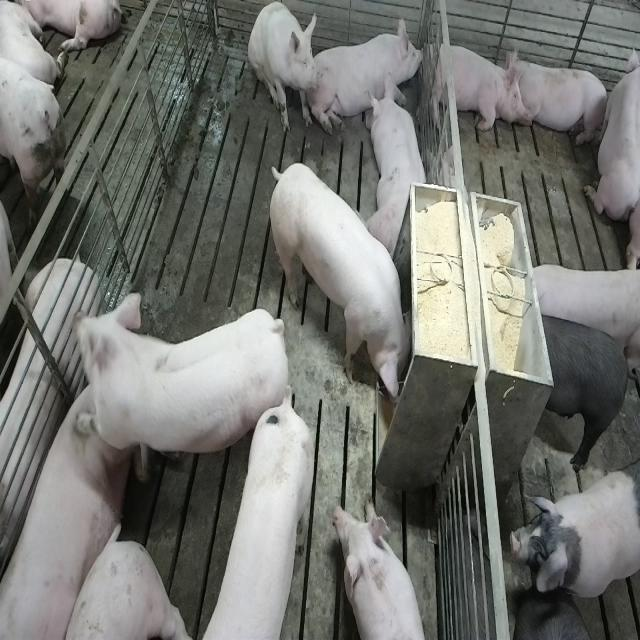Feeding: (272, 161, 420, 411)
Sitting: (248, 2, 320, 138)
Standing: (68, 297, 292, 493), (208, 390, 321, 640), (507, 466, 637, 605), (534, 308, 629, 470), (523, 265, 637, 356)
Sternal_lying: (0, 387, 133, 640), (0, 252, 97, 584), (332, 499, 433, 640), (315, 12, 425, 137), (368, 84, 431, 260), (584, 36, 637, 228), (509, 52, 611, 149), (425, 36, 521, 134)
